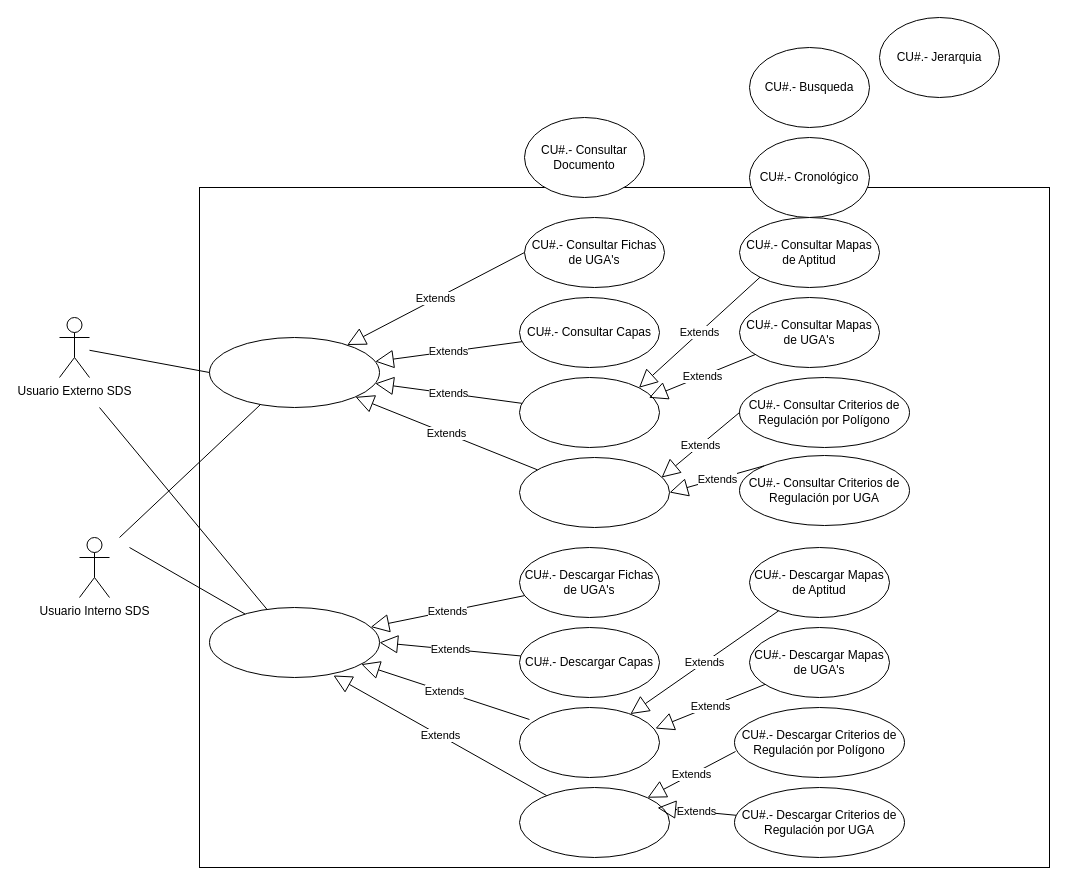
Image size: 1067x885. Some labels were removed from this diagram. Here are the shapes that lost their labels. From the top down, the box of each, then its label:
(208, 336, 380, 408): CU#.- Consultar Recurso
(518, 376, 660, 448): CU#.- Consultar Mapas
(518, 456, 670, 528): CU#.- Consultar Criterios de Regulación
(208, 606, 380, 678): CU#.- Descargar Recurso
(518, 706, 660, 778): CU#.- Descargar Mapas
(518, 786, 670, 858): CU#.- Descargar Criterios de Regulación
